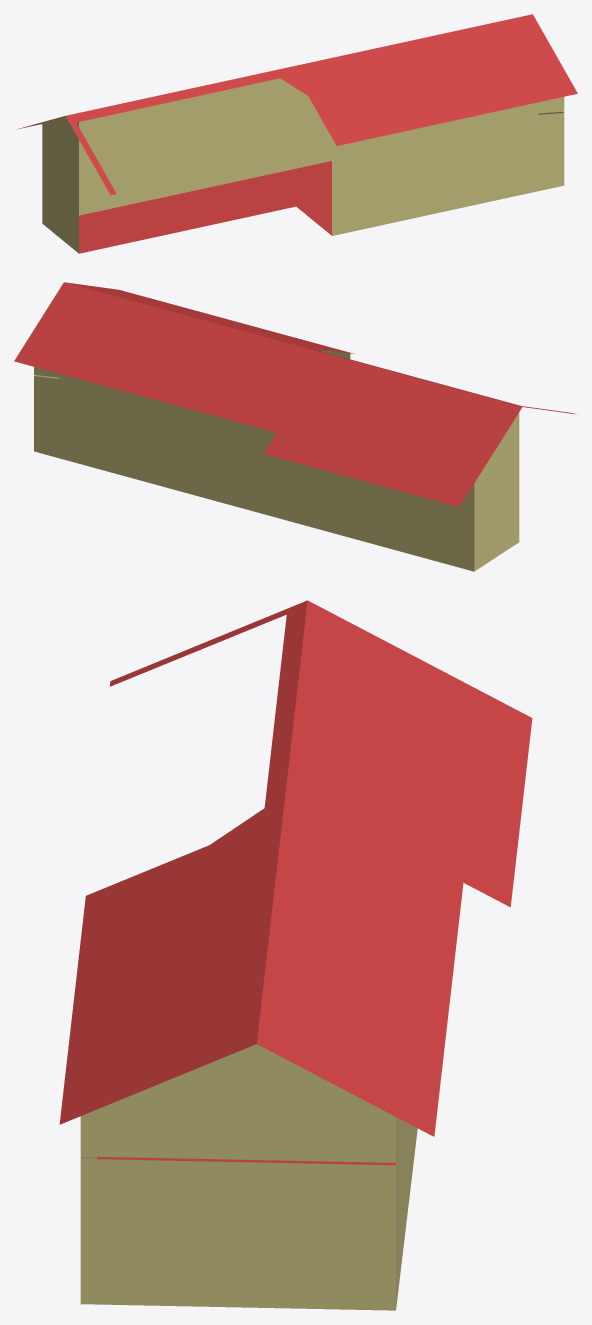
3 views of the same model, one above another, from view 1: azimuth 30°, elevation 25°; view 2: azimuth 150°, elevation 25°; view 3: azimuth 270°, elevation 25° (orthographic). The views are drawn at different scales.
Bounding box in the file's own units: 39.75 × 17.6 × 11.18.
